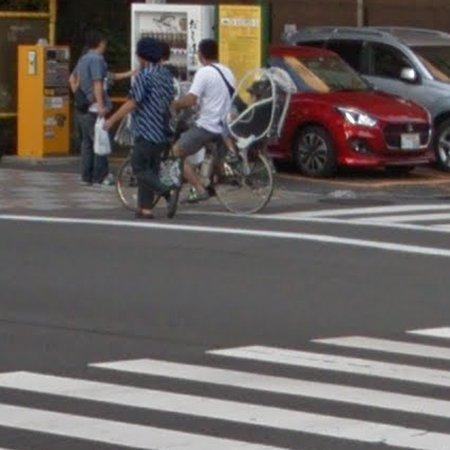crosswalks: (1, 332, 450, 448), (270, 200, 450, 234)
